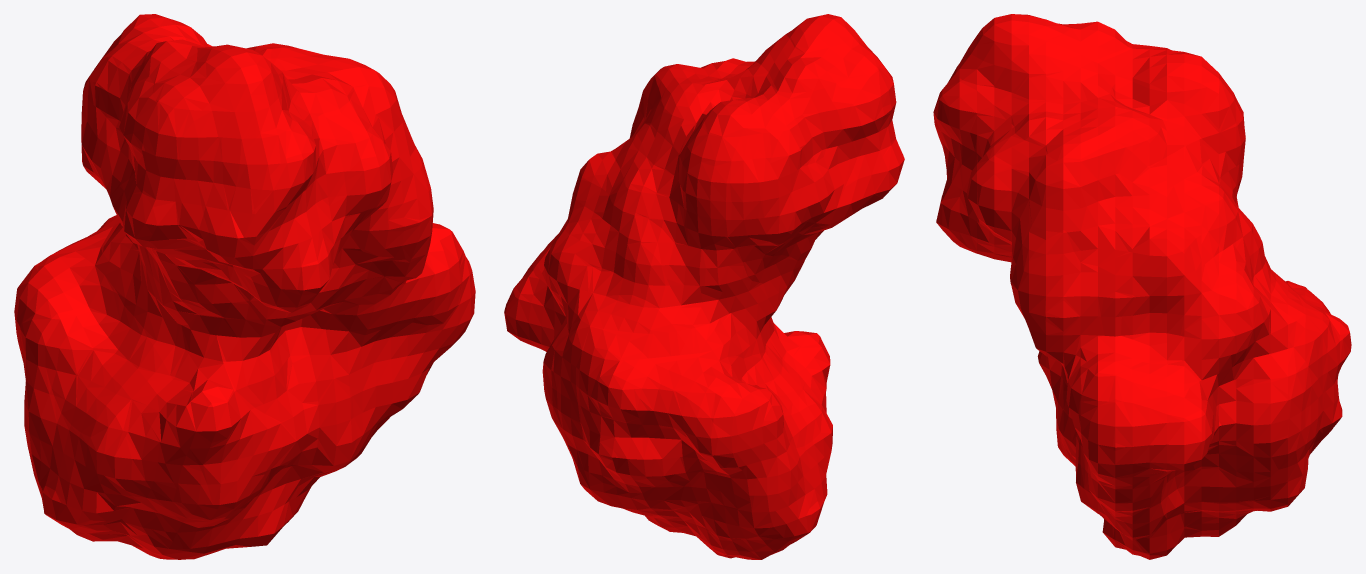
The model's file is tktB_coarse.dae.
3 renders of one model, left to right at view 1: azimuth 30°, elevation 25°; view 2: azimuth 150°, elevation 25°; view 3: azimuth 270°, elevation 25°, orthographic. The views are drawn at different scales.
Visible parts, largest first — view 1: tktB; view 2: tktB; view 3: tktB.
Part boxes in pixels (x1,y1,x2,y2): tktB: (14, 14, 475, 559); tktB: (504, 14, 904, 559); tktB: (933, 14, 1351, 559).
Size of the model in its own units: 65.22 by 92.16 by 68.39.
